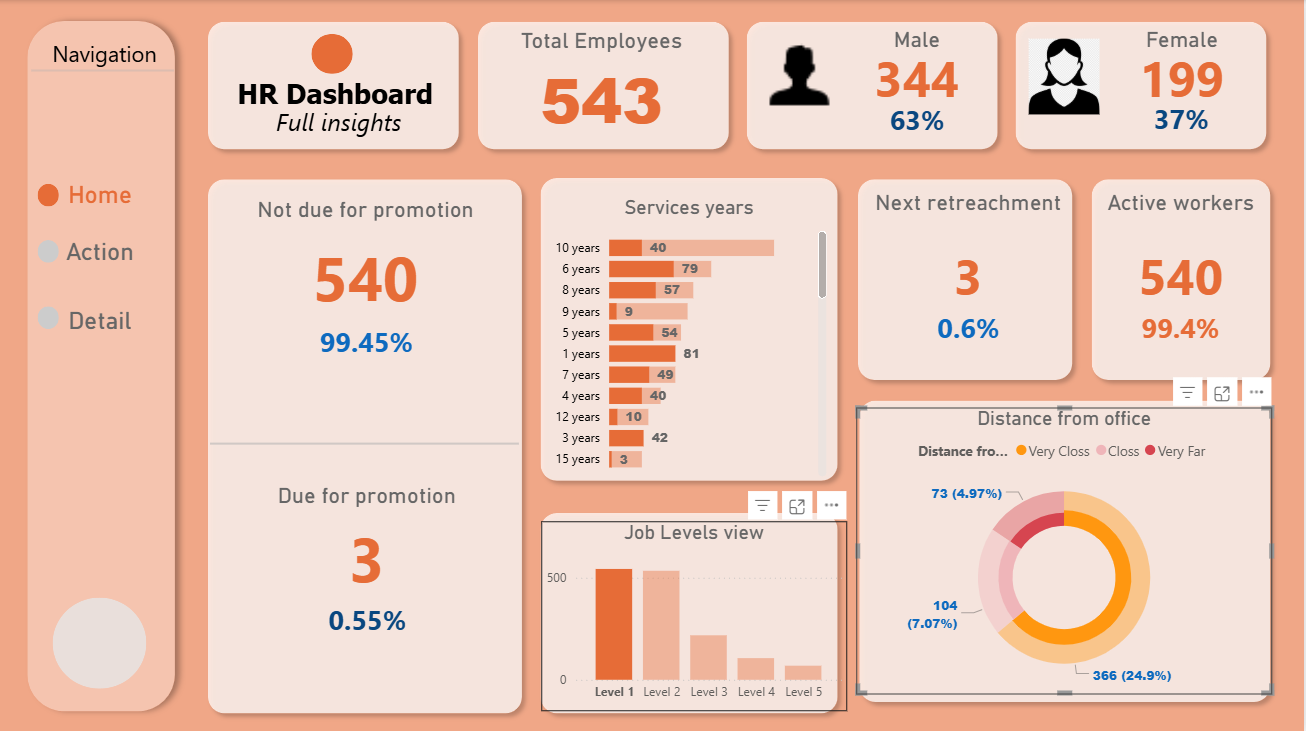

The dashboard page shown, as its layout file describes it:
{"tool":"powerbi","page":{"name":"Home","canvas":[1280,720],"ordinal":0},"visuals":[{"type":"shape","box":[16.5,9.6,166.5,699.2],"z":0},{"type":"shape","box":[195.4,12.4,264.3,143.1],"z":1000},{"type":"shape","box":[459.7,12.4,264.3,143.1],"z":2000},{"type":"shape","box":[724,12.4,264.3,143.1],"z":3000},{"type":"shape","box":[988.2,12.4,264.3,143.1],"z":4000},{"type":"shape","box":[195.4,166.5,326.2,542.3],"z":5000},{"type":"shape","box":[521.6,166.2,309.7,315.2],"z":6000},{"type":"shape","box":[521.6,494.1,309.7,214.7],"z":7000},{"type":"shape","box":[834.8,384.2,421.6,314.1],"z":8000},{"type":"shape","box":[833.6,166.7,228.3,215],"z":9000},{"type":"shape","box":[1063.1,166.7,193.3,215],"z":10000},{"type":"textbox","box":[209.7,71.2,238.7,51.4],"z":11000},{"type":"textbox","box":[36.8,33.1,131.3,51.5],"z":12000},{"type":"textbox","box":[209.7,97.6,251.9,55.4],"z":13000},{"type":"shape","box":[305.9,33,40.9,39.6],"z":14000},{"type":"card","title":"Total Employees","fields":{"Values":["All Measures.Total Emp"]},"box":[468,27.5,246.4,112.9],"z":15000},{"type":"card","title":"Male","fields":{"Values":["All Measures.Male"]},"box":[814.8,26.2,170.7,75.7],"z":16000},{"type":"card","fields":{"Values":["All Measures.Male %"]},"box":[834.1,90.8,132.1,55.1],"z":17000},{"type":"card","title":"Female","fields":{"Values":["All Measures.Female"]},"box":[1068.7,26.2,183.1,75.7],"z":18000},{"type":"card","fields":{"Values":["All Measures.Female %"]},"box":[1083.9,90.8,152.8,53.7],"z":19000},{"type":"image","box":[736.3,26.2,95,90.8],"z":20000},{"type":"actionButton","title":"Home","box":[27.8,176.4,140.1,30.2],"z":21000},{"type":"image","box":[1004.7,33,79.8,84],"z":22000},{"type":"actionButton","title":"Action","box":[27.7,233.4,139.8,56.7],"z":23000},{"type":"card","title":"Active workers","fields":{"Values":["All Measures.On service"]},"box":[1058.3,186,203,142.6],"z":24000},{"type":"actionButton","title":"Detail","box":[28.2,282.2,138.7,57.7],"z":25000},{"type":"card","fields":{"Values":["All Measures.% Active workers"]},"box":[1082.4,296,153.4,53.2],"z":26000},{"type":"card","title":"Next retreachment","fields":{"Values":["All Measures.Due for retirment"]},"box":[843.2,186,215,142.6],"z":27000},{"type":"card","fields":{"Values":["All Measures.%Due for retirment"]},"box":[865,296,171.5,53.2],"z":28000},{"type":"columnChart","title":"Job Levels view","fields":{"Category":["HR Analytics Data.Job Level"],"Y":["All Measures.Total Emp"]},"box":[531.3,512,300,185.8],"z":29000},{"type":"barChart","title":"Services years","fields":{"Category":["HR Analytics Data.Total working Years"],"Y":["All Measures.Total Emp"]},"box":[536.4,192.1,280.3,280.3],"z":30000},{"type":"donutChart","title":"Distance from office","fields":{"Category":["HR Analytics Data.Distance from office"],"Y":["All Measures.Total Emp"]},"box":[840.8,399.9,408.3,282.7],"z":31000},{"type":"card","title":"Not due for promotion","fields":{"Values":["All Measures.Not Due"]},"box":[207.8,192.1,303.2,130.5],"z":32000},{"type":"card","title":"Due for promotion","fields":{"Values":["All Measures.Due for promotion"]},"box":[209,473.8,303.2,119.6],"z":33000},{"type":"shape","box":[206.6,427.7,303.2,14.5],"z":34000},{"type":"card","fields":{"Values":["All Measures.% Not due for promotion"]},"box":[283.5,309.7,152.8,53.7],"z":35000},{"type":"card","fields":{"Values":["All Measures.% Due for promotion"]},"box":[285.1,582.5,152.2,53.2],"z":36000},{"type":"shape","box":[36.9,180.7,21.1,22.4],"z":37000},{"type":"shape","box":[36.9,236,21.1,22.4],"z":38000},{"type":"shape","box":[36.8,287.1,20.9,22.1],"z":39000},{"type":"shape","box":[51.4,586.8,92.3,89.7],"z":40000},{"type":"shape","box":[30.2,61.6,140.1,15.7],"z":41000}]}

Visuals, with their boxes in screenshot pixels (x1, y1, x2, y2), scaled from the page's 1280x720 canvas onto the 1306x731 screenshot:
shape: <box>17,10,187,720</box>
shape: <box>199,13,469,158</box>
shape: <box>469,13,739,158</box>
shape: <box>739,13,1008,158</box>
shape: <box>1008,13,1278,158</box>
shape: <box>199,169,532,720</box>
shape: <box>532,169,848,489</box>
shape: <box>532,502,848,720</box>
shape: <box>852,390,1282,709</box>
shape: <box>851,169,1083,388</box>
shape: <box>1085,169,1282,388</box>
textbox: <box>214,72,458,124</box>
textbox: <box>38,34,172,86</box>
textbox: <box>214,99,471,155</box>
shape: <box>312,34,354,74</box>
"Total Employees" card: <box>478,28,729,143</box>
"Male" card: <box>831,27,1006,103</box>
card - All Measures.Male %: <box>851,92,986,148</box>
"Female" card: <box>1090,27,1277,103</box>
card - All Measures.Female %: <box>1106,92,1262,147</box>
image: <box>751,27,848,119</box>
"Home" actionButton: <box>28,179,171,210</box>
image: <box>1025,34,1107,119</box>
"Action" actionButton: <box>28,237,171,295</box>
"Active workers" card: <box>1080,189,1287,334</box>
"Detail" actionButton: <box>29,287,170,345</box>
card - All Measures.% Active workers: <box>1104,301,1261,355</box>
"Next retreachment" card: <box>860,189,1080,334</box>
card - All Measures.%Due for retirment: <box>883,301,1058,355</box>
"Job Levels view" columnChart: <box>542,520,848,708</box>
"Services years" barChart: <box>547,195,833,480</box>
"Distance from office" donutChart: <box>858,406,1274,693</box>
"Not due for promotion" card: <box>212,195,521,328</box>
"Due for promotion" card: <box>213,481,523,602</box>
shape: <box>211,434,520,449</box>
card - All Measures.% Not due for promotion: <box>289,314,445,369</box>
card - All Measures.% Due for promotion: <box>291,591,446,645</box>
shape: <box>38,183,59,206</box>
shape: <box>38,240,59,262</box>
shape: <box>38,291,59,314</box>
shape: <box>52,596,147,687</box>
shape: <box>31,63,174,78</box>
